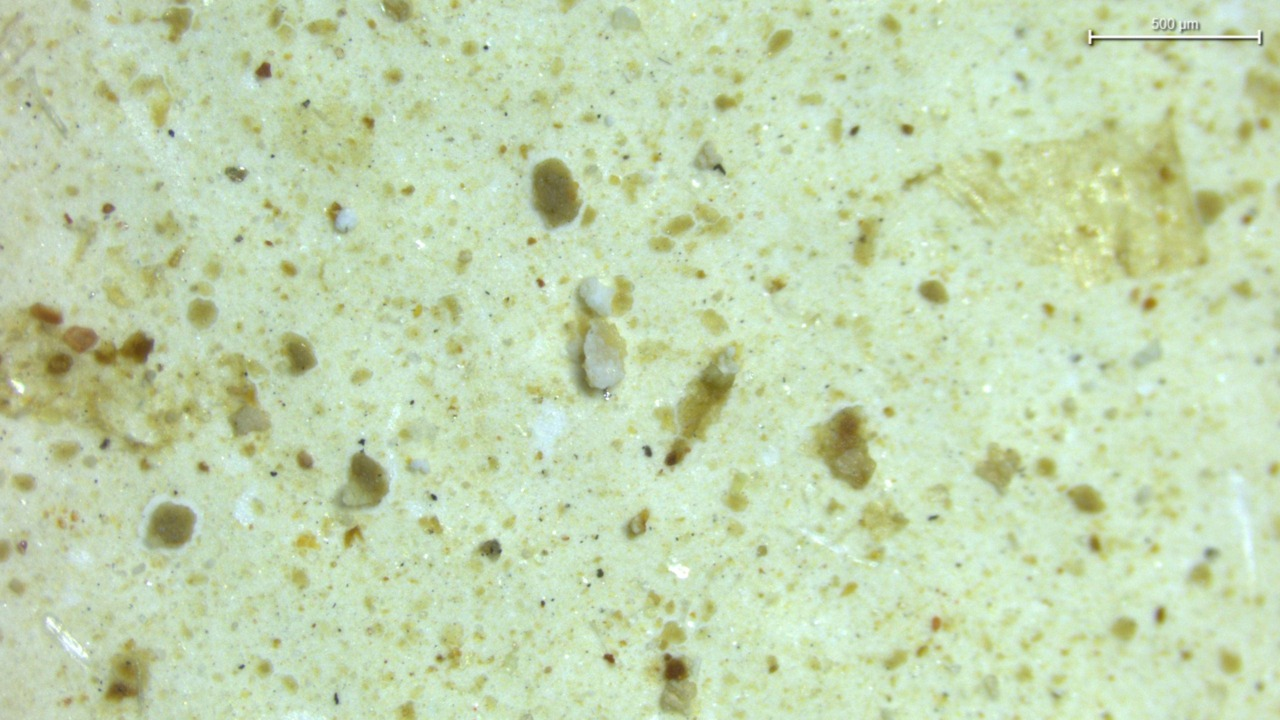microplastic_fragment: (583, 321, 624, 390), (578, 278, 615, 316), (334, 208, 358, 233)
